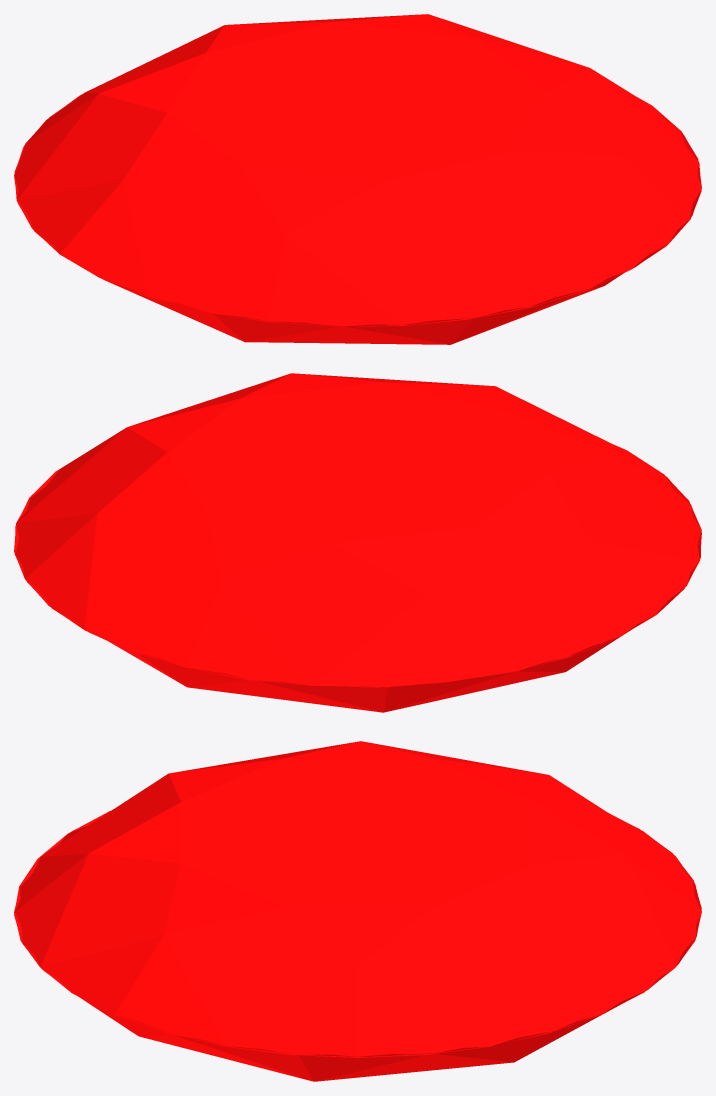
The model's file is round.glb.
3 renders of one model, top to bottom at view 1: azimuth 30°, elevation 25°; view 2: azimuth 150°, elevation 25°; view 3: azimuth 270°, elevation 25°, orthographic.
Visible parts, largest first — view 1: Circle.001; view 2: Circle.001; view 3: Circle.001.
Part boxes in pixels (bbox=[...]): Circle.001: bbox=[14, 14, 701, 344]; Circle.001: bbox=[14, 373, 701, 712]; Circle.001: bbox=[14, 741, 701, 1081].
Size of the model in its own units: 4.32 by 1.1 by 4.32.
Materials: 1 (1 with a texture image).
